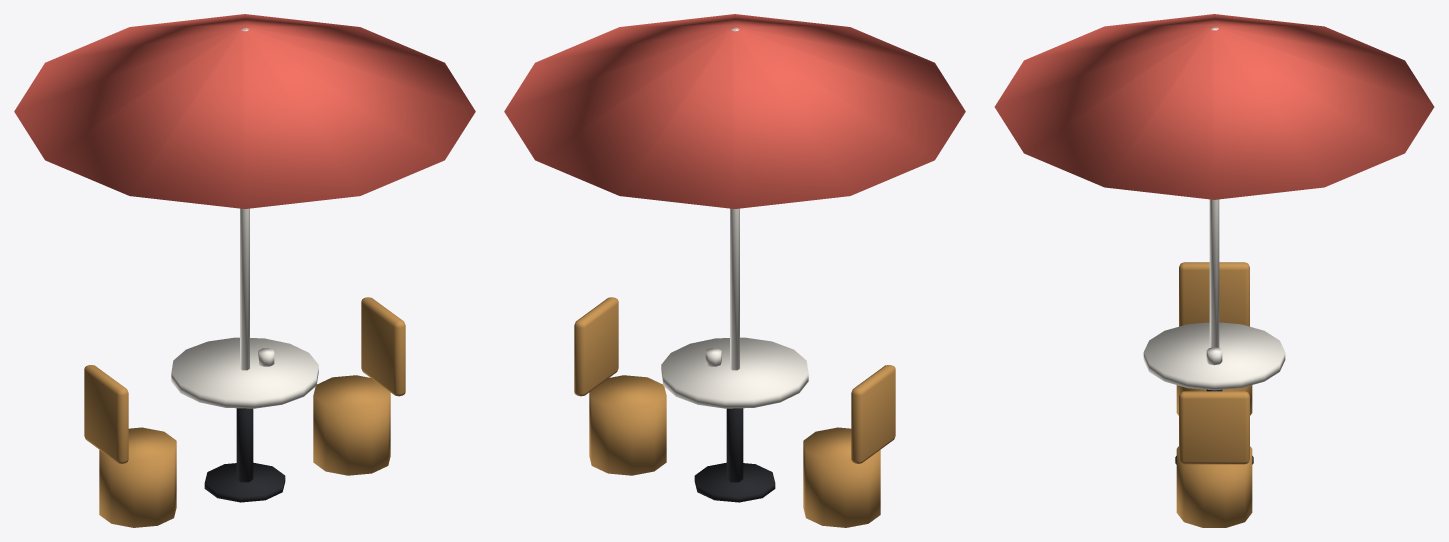
Rendered from cafe_set.gltf.
The picture shows the model from 3 angles, left to right: view 1: azimuth 30°, elevation 25°; view 2: azimuth 150°, elevation 25°; view 3: azimuth 270°, elevation 25°; orthographic projection. The views are drawn at different scales.
Visible parts, largest first — view 1: cafe_set_mesh; view 2: cafe_set_mesh; view 3: cafe_set_mesh.
Boxes of the visible parts, left/top/right/bottom form: cafe_set_mesh: left=14, top=14, right=475, bottom=527; cafe_set_mesh: left=504, top=14, right=965, bottom=527; cafe_set_mesh: left=994, top=14, right=1434, bottom=527.
Size of what is drawn, in the model's own units: 2.8 by 3.05 by 2.8.
